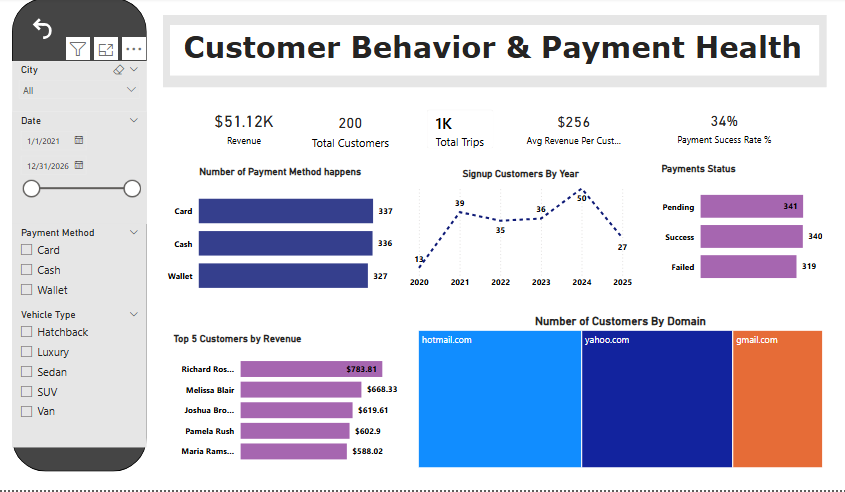

The page's visual inventory and layout, read from the dashboard file:
{"tool":"powerbi","page":{"name":"Customer Behavior & Payment Health","canvas":[1280,720],"ordinal":2},"visuals":[{"type":"shape","box":[50,0,197.1,692.9],"z":0},{"type":"slicer","fields":{"Values":["dim_vehicles.vehicle_type"]},"box":[50,450,197.1,207.1],"z":1000},{"type":"slicer","fields":{"Values":["dim_customers.city"]},"box":[50,92.9,197.1,74.3],"z":2000},{"type":"slicer","fields":{"Values":["dim_date.date_day"]},"box":[50,167.1,197.1,162.9],"z":3000},{"type":"slicer","fields":{"Values":["fact_payments.payment_method"]},"box":[50,330,197.1,120],"z":4000},{"type":"shape","box":[270,24.3,971.4,105.7],"z":5000},{"type":"textbox","box":[281.4,40,950,74.3],"z":6000},{"type":"clusteredBarChart","title":"Top 5 Customers by Revenue","fields":{"Y":["-Measures.Revenue"],"Category":["dim_customers.full_name"]},"box":[281.4,490,360,202.9],"z":7000},{"type":"card","fields":{"Values":["-Measures.Total Customers"]},"box":[477.1,151.4,135.7,82.9],"z":8000},{"type":"cardVisual","fields":{"Data":["-Measures.Total Trips"]},"box":[640,145.7,132.9,91.4],"z":9000},{"type":"card","fields":{"Values":["-Measures.Revenue"]},"box":[328.6,148.6,120,78.6],"z":10000},{"type":"card","fields":{"Values":["-Measures.Payment Sucess Rate %"]},"box":[995.7,141.4,194.3,92.9],"z":11000},{"type":"card","fields":{"Values":["-Measures.Avg Revenue Per Customer"]},"box":[794.3,138.6,154.3,100],"z":12000},{"type":"treemap","title":"Number of Customers By Domain","fields":{"Group":["dim_customers.domain"],"Values":["-Measures.Total Customers"]},"box":[640,462.9,601.4,230],"z":13000},{"type":"clusteredBarChart","title":"Payments Status","fields":{"Category":["fact_payments.payment_status"],"Y":["CountNonNull(fact_payments.payment_id)"]},"box":[995.7,241.4,245.7,192.9],"z":14000},{"type":"lineChart","title":"Signup Customers By Year","fields":{"Category":["dim_customers.signup_date.Variation.Date Hierarchy.Year","dim_customers.signup_date.Variation.Date Hierarchy.Quarter","dim_customers.signup_date.Variation.Date Hierarchy.Month","dim_customers.signup_date.Variation.Date Hierarchy.Day"],"Y":["CountNonNull(dim_customers.customer_id)"]},"box":[625.7,248.6,335.7,185.7],"z":15000},{"type":"clusteredBarChart","title":" Number of Payment Method happens ","fields":{"Category":["fact_payments.payment_method"],"Y":["CountNonNull(fact_payments.payment_id)"]},"box":[270,245.7,342.9,204.3],"z":16000},{"type":"actionButton","box":[74.6,24.9,99.5,39.5],"z":17000}]}

Visuals, with their boxes on the page's 1280x720 design canvas (x1, y1, x2, y2). These are canvas units, not pixel positions in the 845x492 screenshot, which may show the page scaled, cropped or inside an application window:
shape: [50,0,247,693]
slicer - dim_vehicles.vehicle_type: [50,450,247,657]
slicer - dim_customers.city: [50,93,247,167]
slicer - dim_date.date_day: [50,167,247,330]
slicer - fact_payments.payment_method: [50,330,247,450]
shape: [270,24,1241,130]
textbox: [281,40,1231,114]
"Top 5 Customers by Revenue" clusteredBarChart: [281,490,641,693]
card - -Measures.Total Customers: [477,151,613,234]
cardVisual - -Measures.Total Trips: [640,146,773,237]
card - -Measures.Revenue: [329,149,449,227]
card - -Measures.Payment Sucess Rate %: [996,141,1190,234]
card - -Measures.Avg Revenue Per Customer: [794,139,949,239]
"Number of Customers By Domain" treemap: [640,463,1241,693]
"Payments Status" clusteredBarChart: [996,241,1241,434]
"Signup Customers By Year" lineChart: [626,249,961,434]
" Number of Payment Method happens " clusteredBarChart: [270,246,613,450]
actionButton: [75,25,174,64]
